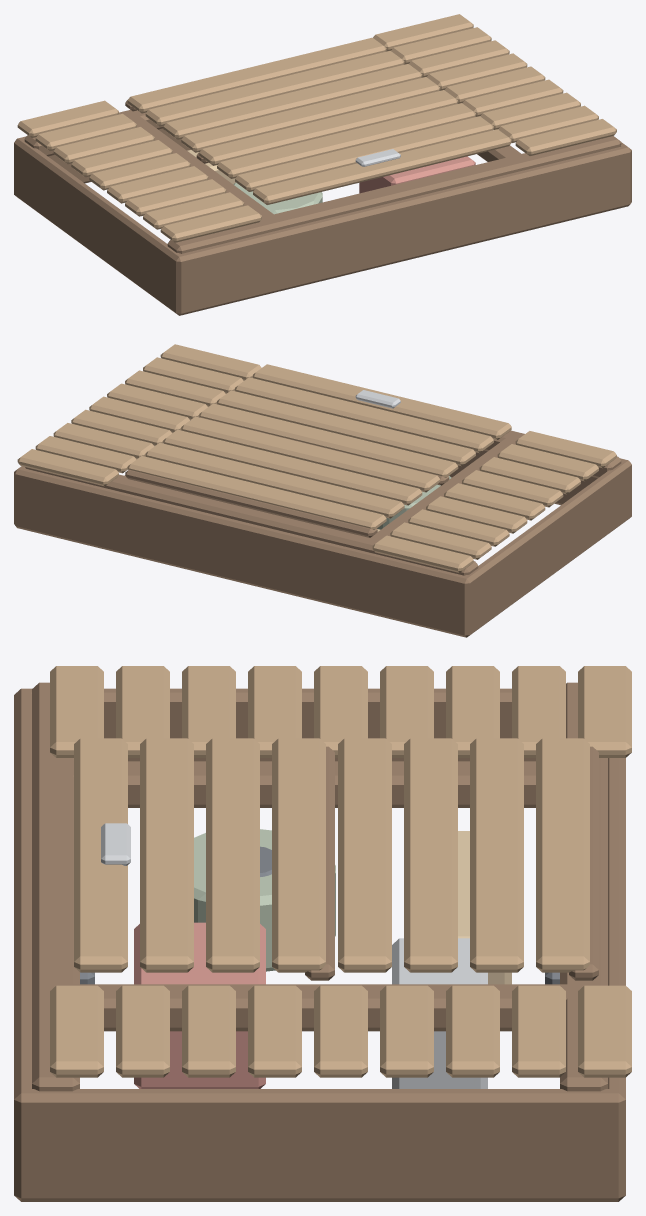
Rendered from DeckTileStorageBox.glb.
The picture shows the model from 3 angles, top to bottom: view 1: azimuth 30°, elevation 25°; view 2: azimuth 150°, elevation 25°; view 3: azimuth 270°, elevation 25°; orthographic projection. The views are drawn at different scales.
Parts seen in each view (by area): view 1: DeckTileStorageBox_Deck, DeckTileStorageBox_Hatch; view 2: DeckTileStorageBox_Deck, DeckTileStorageBox_Hatch; view 3: DeckTileStorageBox_Deck, DeckTileStorageBox_Hatch.
Part boxes in pixels (x1,y1,x2,y2): DeckTileStorageBox_Deck: (14,14,631,315); DeckTileStorageBox_Hatch: (125,37,511,204); DeckTileStorageBox_Deck: (14,344,631,637); DeckTileStorageBox_Hatch: (125,364,511,537); DeckTileStorageBox_Deck: (14,666,631,1201); DeckTileStorageBox_Hatch: (74,738,598,980).
Size of the model in its own units: 1.62 by 0.315 by 1.03.
